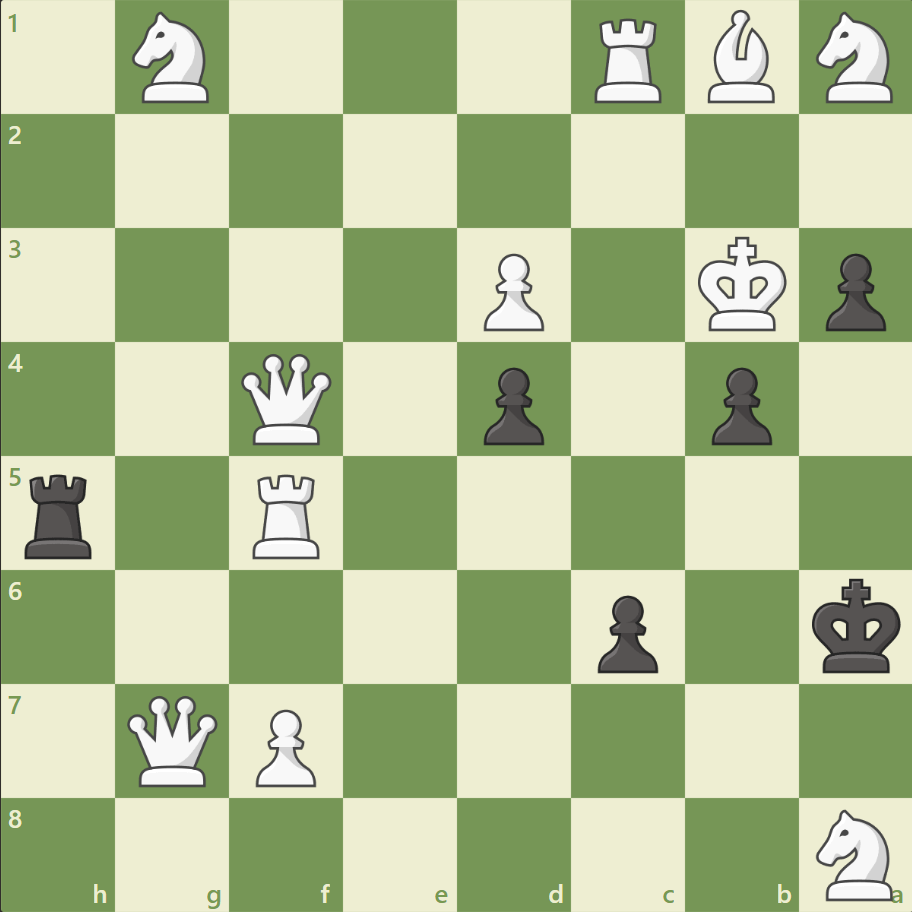B: (698, 6, 782, 109)
K: (692, 231, 792, 339)
N: (124, 7, 222, 110), (806, 7, 903, 110), (806, 802, 903, 904)
P: (247, 700, 322, 791), (474, 246, 549, 337)
Q: (237, 349, 336, 449), (124, 690, 223, 789)
R: (246, 466, 329, 563), (587, 12, 670, 109)
k: (806, 571, 906, 679)
p: (701, 359, 776, 450), (474, 359, 549, 450), (588, 586, 662, 677), (815, 246, 889, 337)
r: (19, 466, 102, 563)
